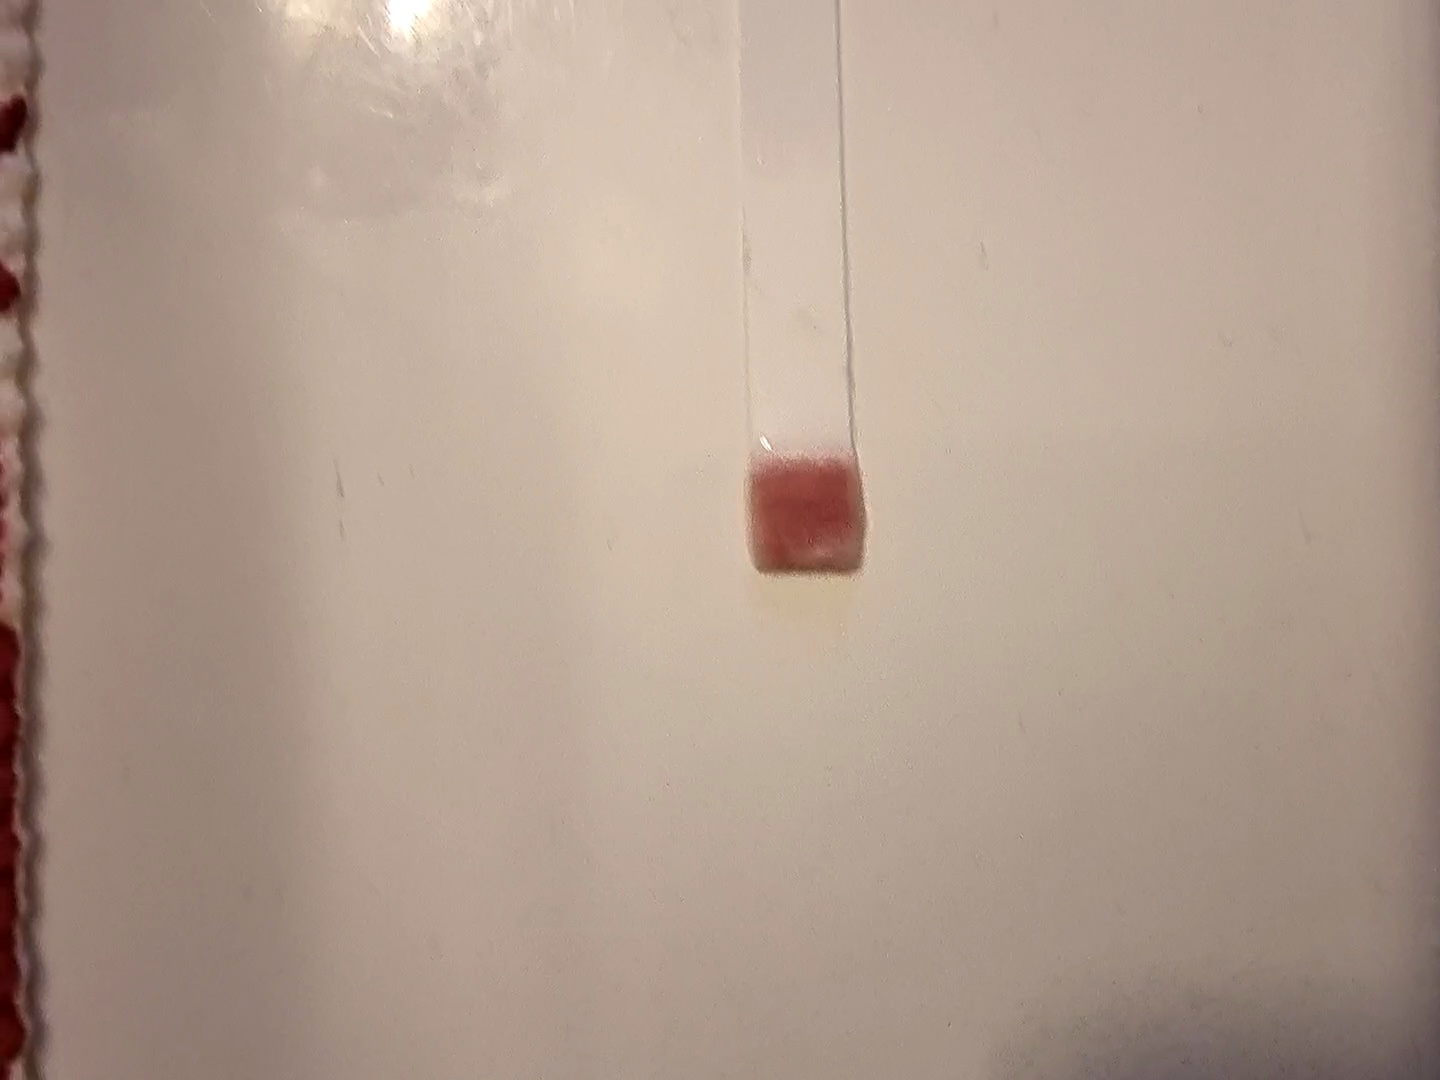keto-tip: (744, 452, 873, 577)
